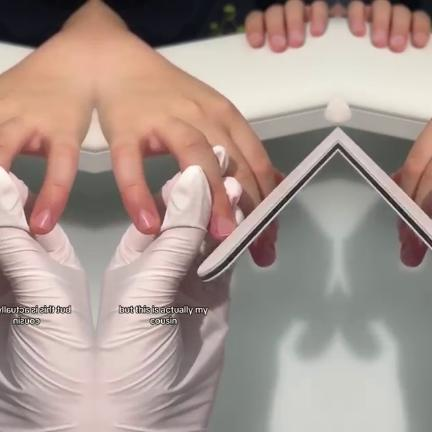Nail: (136, 209, 154, 230), (34, 209, 52, 230)
